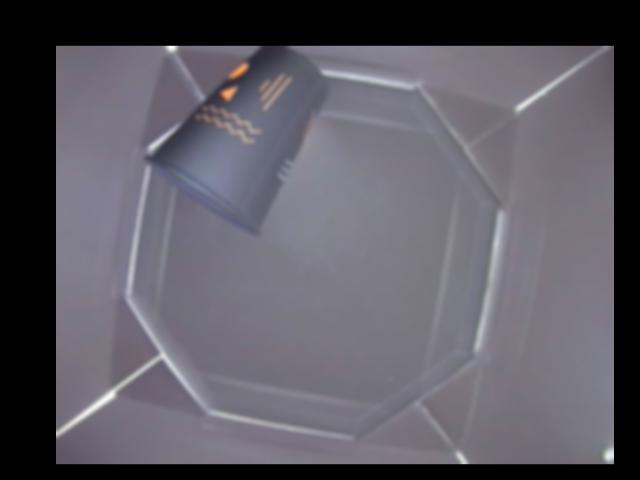Cup: (142, 46, 331, 235)
